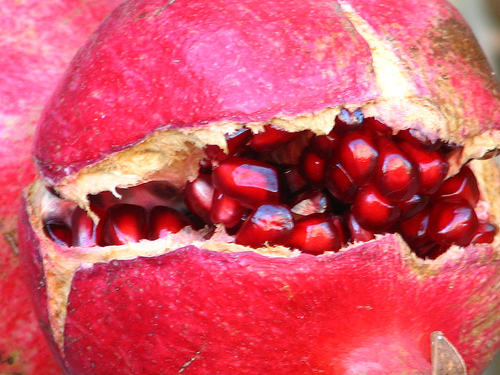pomogranate: (17, 0, 498, 374)
